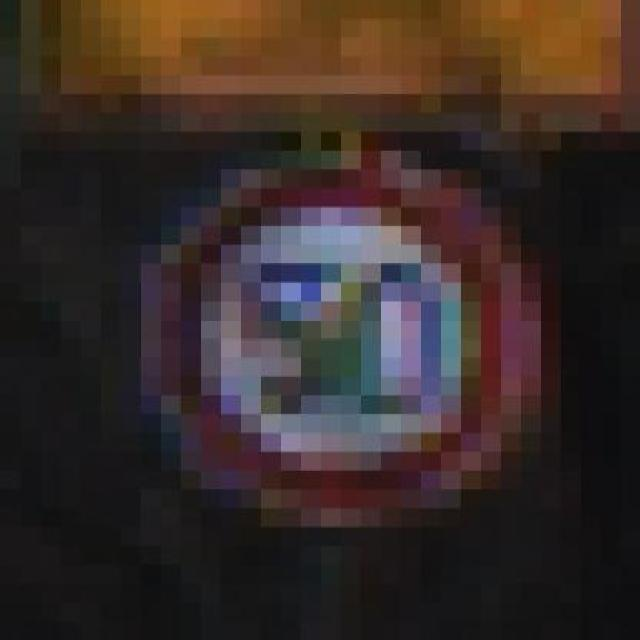forb_speed_over_50: (176, 161, 519, 508)
